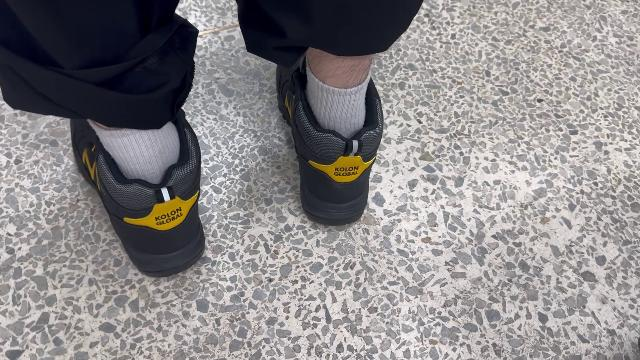shoe_worn: (69, 111, 212, 280), (272, 53, 389, 230)
